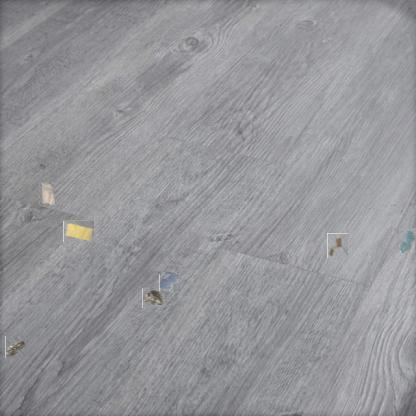dirty: (63, 220, 94, 242), (327, 233, 348, 258), (5, 336, 26, 358), (142, 288, 165, 308), (39, 181, 55, 205)
liquid: (397, 229, 415, 253), (160, 273, 180, 292)
